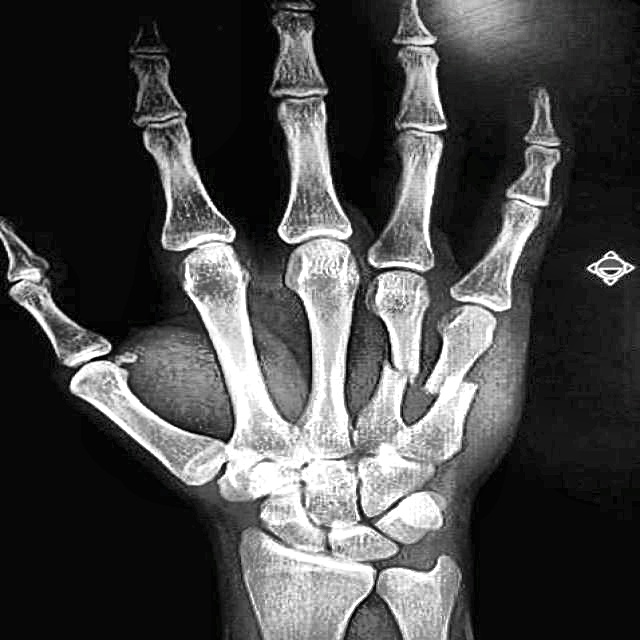Transverse: (419, 360, 502, 428)
Transverse Displaced: (362, 331, 430, 405)
